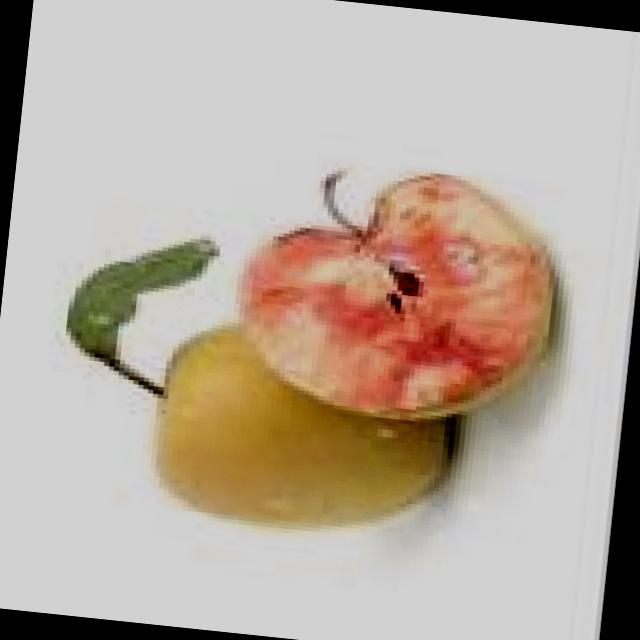Green Juicy Apple: (147, 317, 466, 547)
Rotten Apple: (228, 158, 556, 434)
